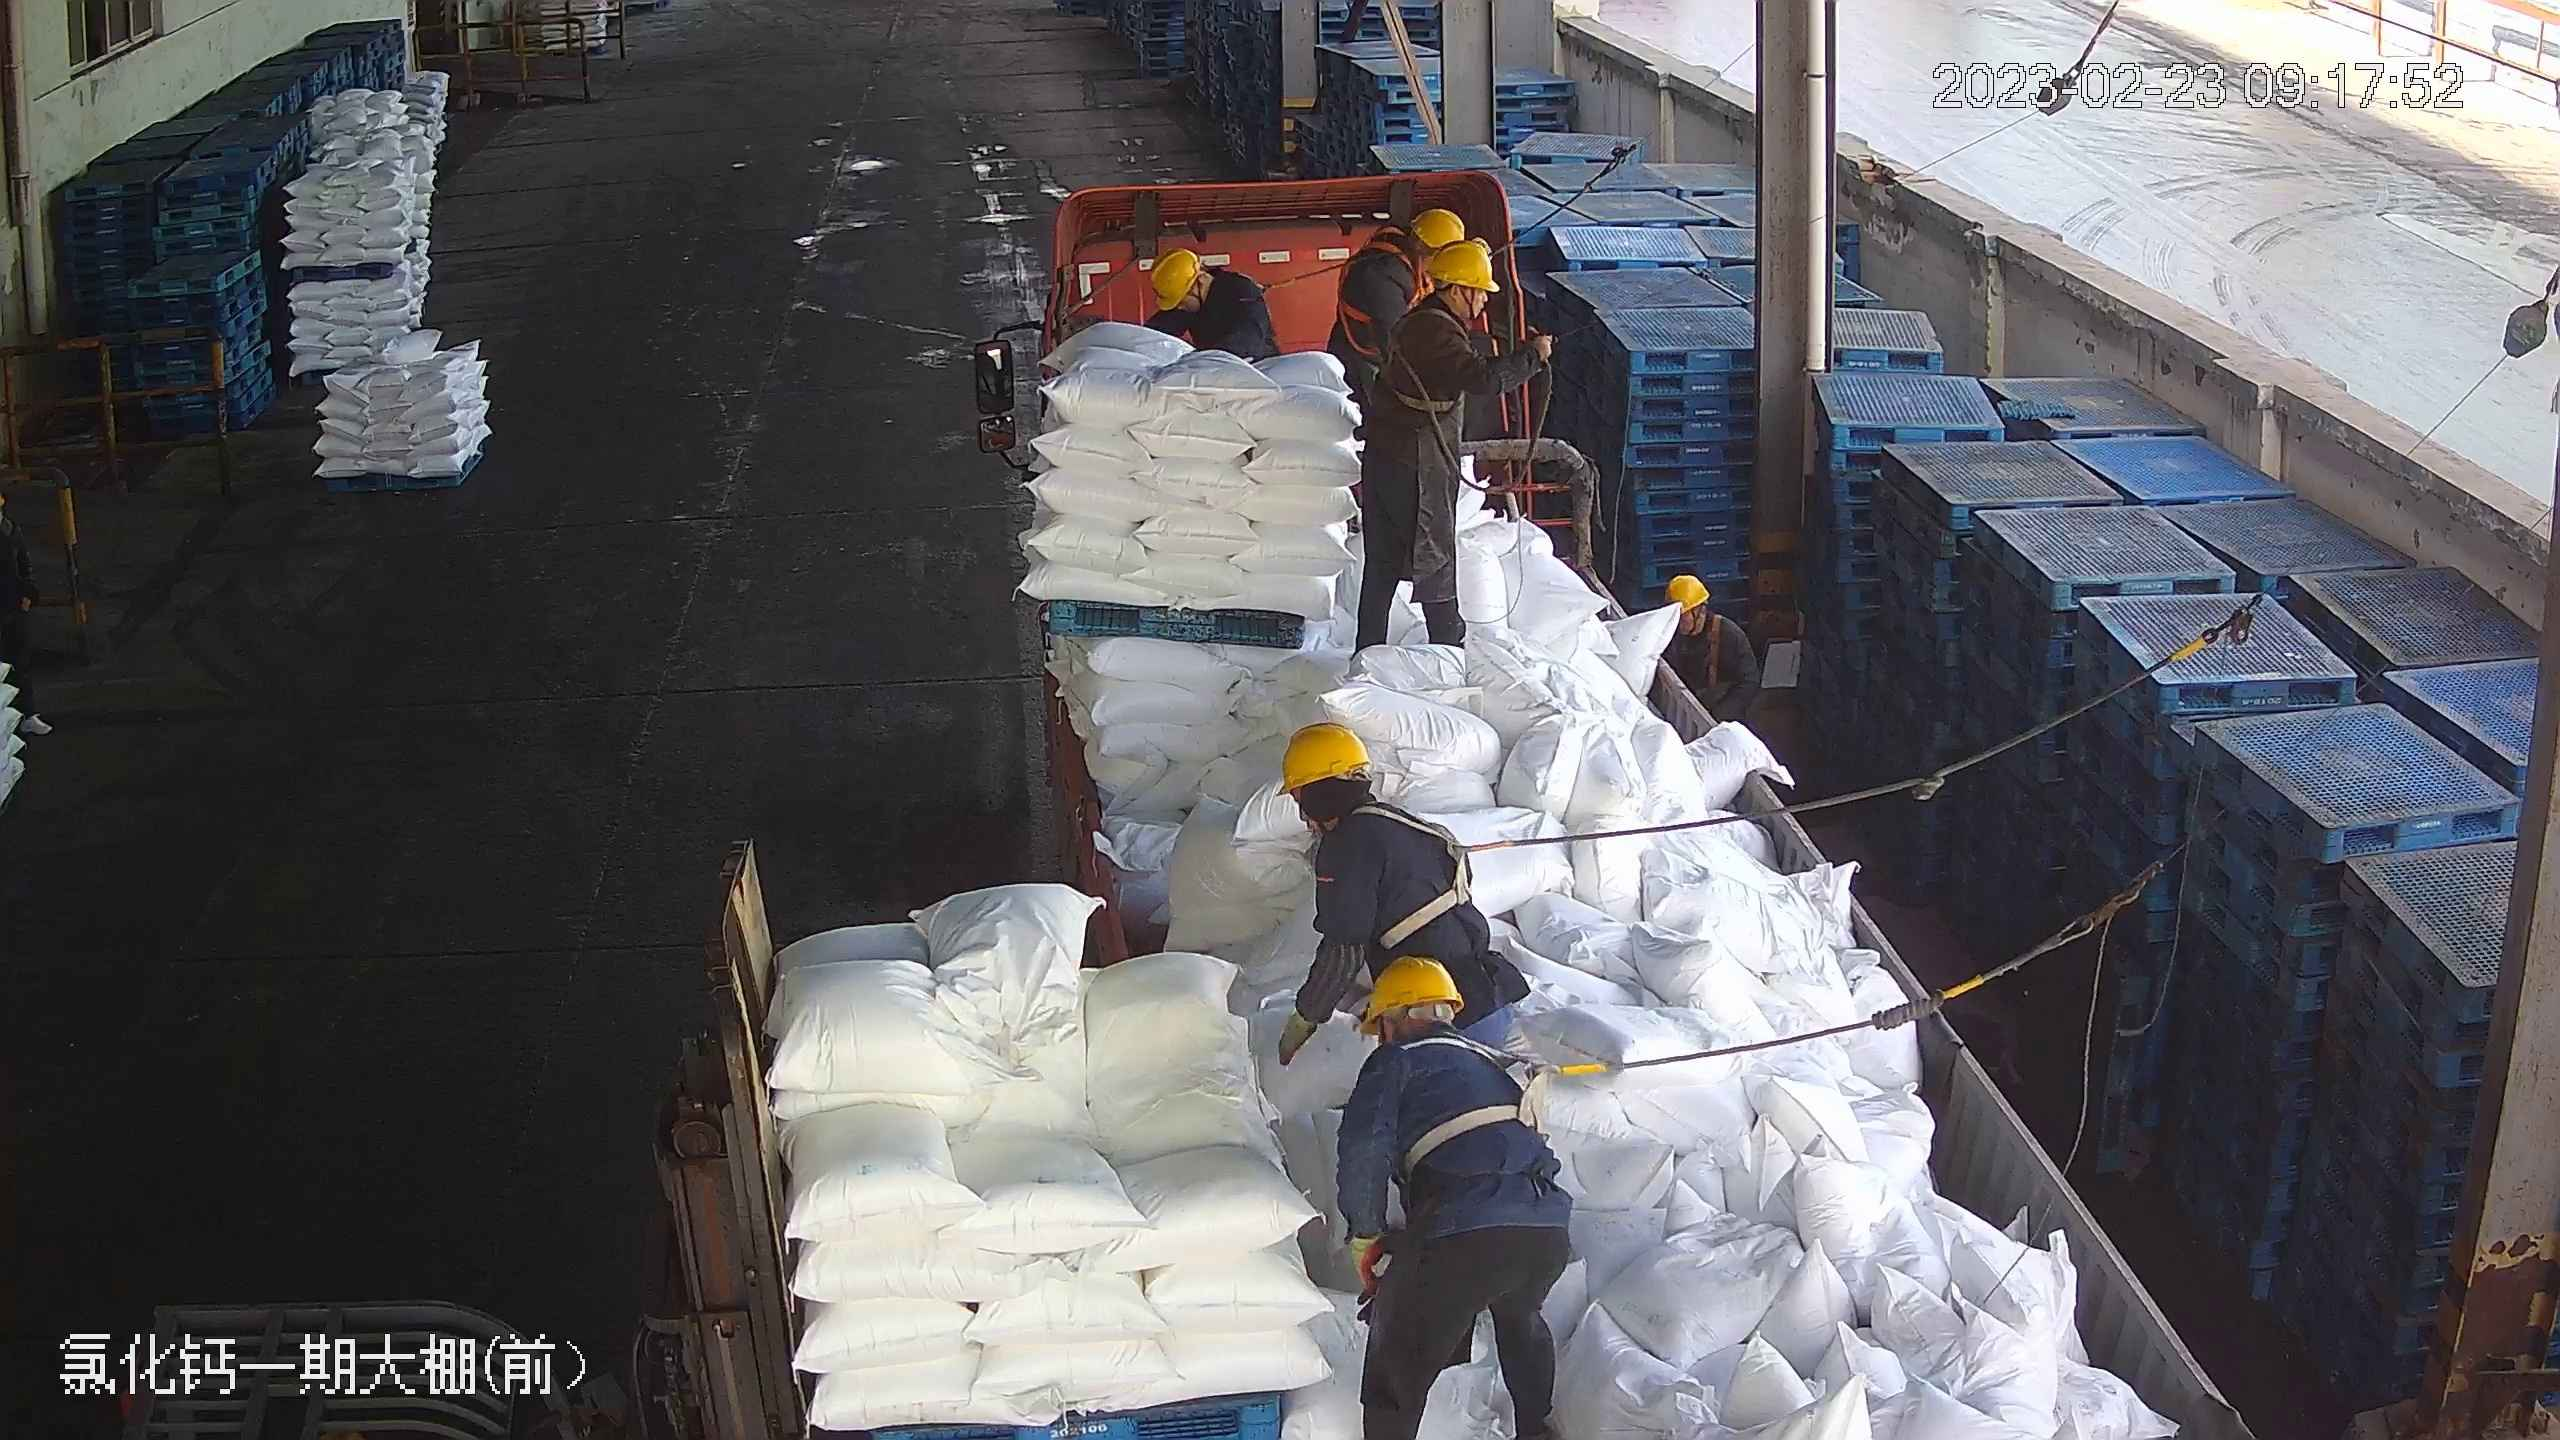belt: (1412, 1031, 1600, 1156), (1351, 800, 1514, 943), (1373, 306, 1460, 409), (1329, 246, 1405, 344), (1685, 609, 1730, 688), (1240, 267, 1285, 309)
head: (1273, 725, 1445, 883), (1353, 957, 1520, 1105), (1401, 244, 1504, 370), (1143, 247, 1251, 332), (1656, 571, 1744, 670), (1353, 207, 1449, 298), (1, 473, 35, 559)
helmet: (1354, 955, 1460, 1029), (1274, 720, 1371, 789), (1426, 236, 1499, 293), (1146, 244, 1203, 306), (1406, 204, 1474, 253), (1663, 570, 1715, 608)
people: (1336, 954, 1573, 1440), (1260, 720, 1547, 1108), (1359, 245, 1548, 659), (1, 476, 45, 707)
truck: (984, 171, 2254, 1430)
